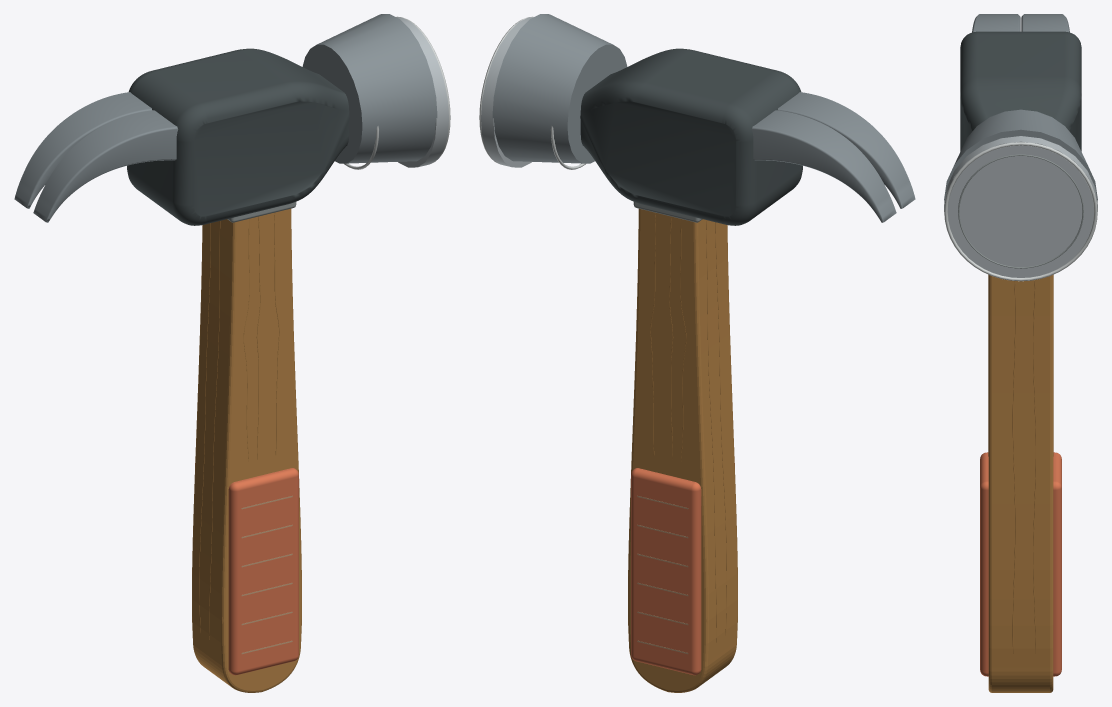
Rendered from workshop-hammer.glb.
3 views of the same model, side by side, from view 1: azimuth 30°, elevation 25°; view 2: azimuth 150°, elevation 25°; view 3: azimuth 270°, elevation 25° (orthographic).
Visible parts, largest first — view 1: Wood_Handle, steelInset, Grip_Front, steel, Claw_Back, Claw_Front, steelEdge; view 2: Wood_Handle, steelInset, Grip_Back, steel, Claw_Front, Claw_Back, steelEdge; view 3: Wood_Handle, steelEdge, steelInset, steel, Grip_Front, Grip_Back, Polished_Striking_Rim, Claw_Front, Claw_Back, Machined_Face_Groove, Side_Wood_Right_5, Side_Wood_Right_2.
Boxes of the visible parts, bbox=[...] form: Wood_Handle: bbox=[192, 208, 301, 692]; steelInset: bbox=[127, 48, 349, 225]; Grip_Front: bbox=[228, 468, 298, 675]; steel: bbox=[302, 14, 437, 163]; Claw_Back: bbox=[33, 110, 178, 222]; Claw_Front: bbox=[14, 92, 152, 208]; steelEdge: bbox=[397, 17, 448, 167]; Wood_Handle: bbox=[628, 208, 737, 692]; steelInset: bbox=[580, 48, 802, 225]; Grip_Back: bbox=[631, 468, 701, 675]; steel: bbox=[492, 14, 627, 163]; Claw_Front: bbox=[751, 110, 896, 222]; Claw_Back: bbox=[777, 92, 915, 208]; steelEdge: bbox=[481, 17, 532, 167]; Wood_Handle: bbox=[988, 275, 1053, 692]; steelEdge: bbox=[944, 136, 1097, 277]; steelInset: bbox=[960, 31, 1081, 151]; steel: bbox=[944, 109, 1097, 201]; Grip_Front: bbox=[980, 452, 988, 676]; Grip_Back: bbox=[1053, 452, 1061, 676]; Polished_Striking_Rim: bbox=[944, 142, 1097, 281]; Claw_Front: bbox=[1021, 14, 1069, 32]; Claw_Back: bbox=[972, 14, 1020, 32]; Machined_Face_Groove: bbox=[958, 154, 1083, 268]; Side_Wood_Right_5: bbox=[1012, 281, 1015, 653]; Side_Wood_Right_2: bbox=[1033, 280, 1035, 653].
Bounding box in the file's own units: 0.2629 × 0.4101 × 0.0902.
